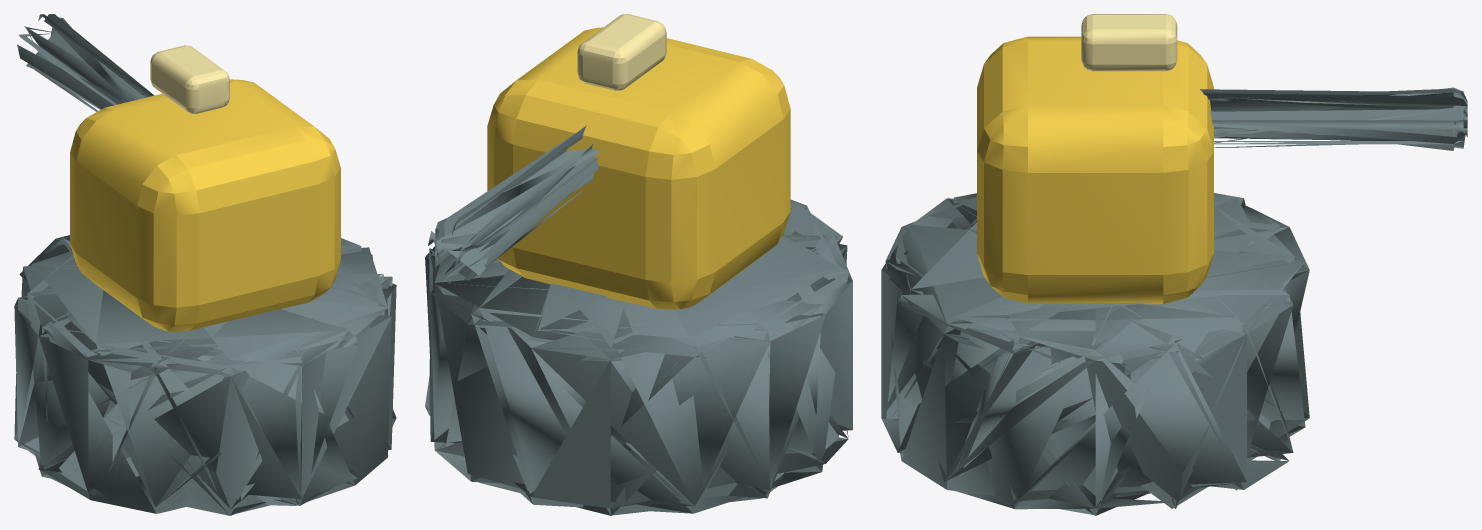
File: sentry.glb
The picture shows the model from 3 angles, left to right: view 1: azimuth 30°, elevation 25°; view 2: azimuth 150°, elevation 25°; view 3: azimuth 270°, elevation 25°; orthographic projection. The views are drawn at different scales.
Visible parts, largest first — view 1: SentryPlinth, SentryHousing, SentryBarrel, SentrySight; view 2: SentryPlinth, SentryHousing, SentryBarrel, SentrySight; view 3: SentryPlinth, SentryHousing, SentryBarrel, SentrySight.
Boxes of the visible parts, left/top/right/bottom form: SentryPlinth: left=14, top=235, right=396, bottom=515; SentryHousing: left=70, top=79, right=340, bottom=331; SentryBarrel: left=17, top=14, right=153, bottom=111; SentrySight: left=150, top=45, right=229, bottom=113; SentryPlinth: left=425, top=199, right=852, bottom=515; SentryHousing: left=487, top=27, right=790, bottom=309; SentryBarrel: left=428, top=125, right=599, bottom=280; SentrySight: left=577, top=14, right=666, bottom=90; SentryPlinth: left=881, top=193, right=1309, bottom=515; SentryHousing: left=977, top=36, right=1213, bottom=304; SentryBarrel: left=1200, top=87, right=1467, bottom=150; SentrySight: left=1081, top=14, right=1177, bottom=71.
Bounding box in the file's own units: 0.76 × 0.8 × 1.04.
